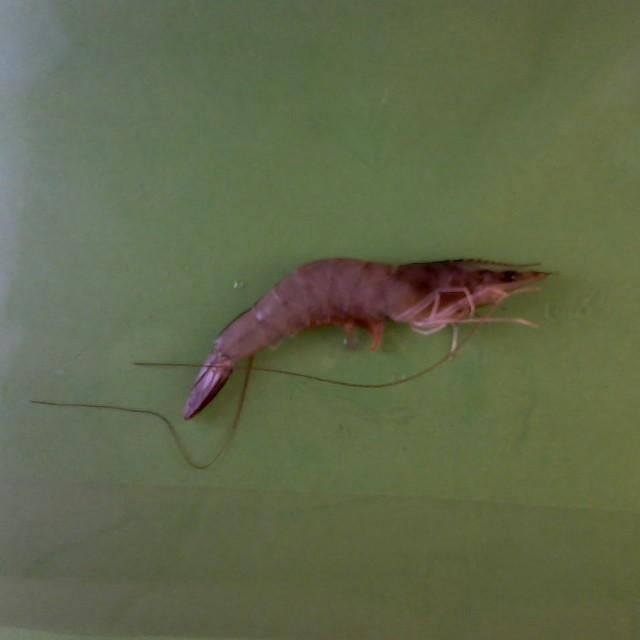shrimp: (184, 259, 548, 420)
